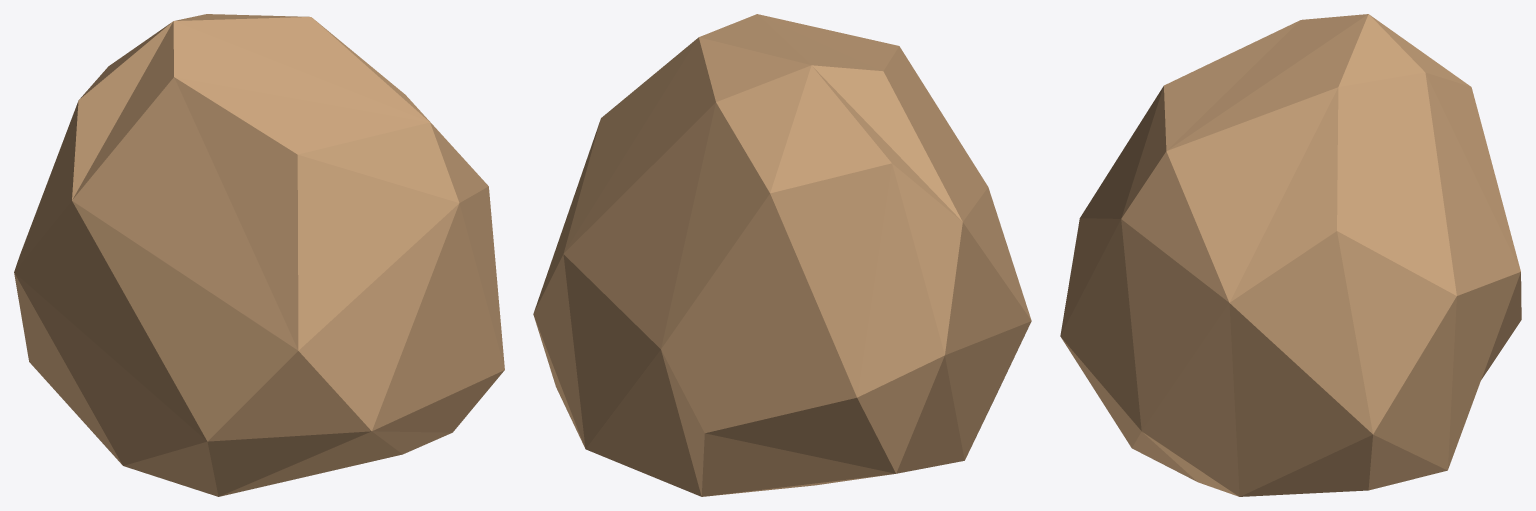
The model's file is cloud02.obj.
The picture shows the model from 3 angles, left to right: view 1: azimuth 30°, elevation 25°; view 2: azimuth 150°, elevation 25°; view 3: azimuth 270°, elevation 25°; orthographic projection. The views are drawn at different scales.
Parts seen in each view (by area): view 1: cloud02.obj; view 2: cloud02.obj; view 3: cloud02.obj.
Boxes of the visible parts, bbox=[...] form: cloud02.obj: bbox=[14, 14, 504, 496]; cloud02.obj: bbox=[533, 14, 1031, 496]; cloud02.obj: bbox=[1060, 14, 1521, 496].
Size of the model in its own units: 2.5 by 2.5 by 2.5.
